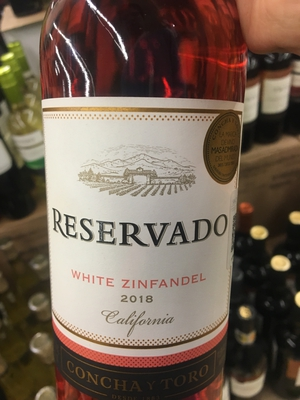reservado white zinfandel: (41, 14, 241, 398)
